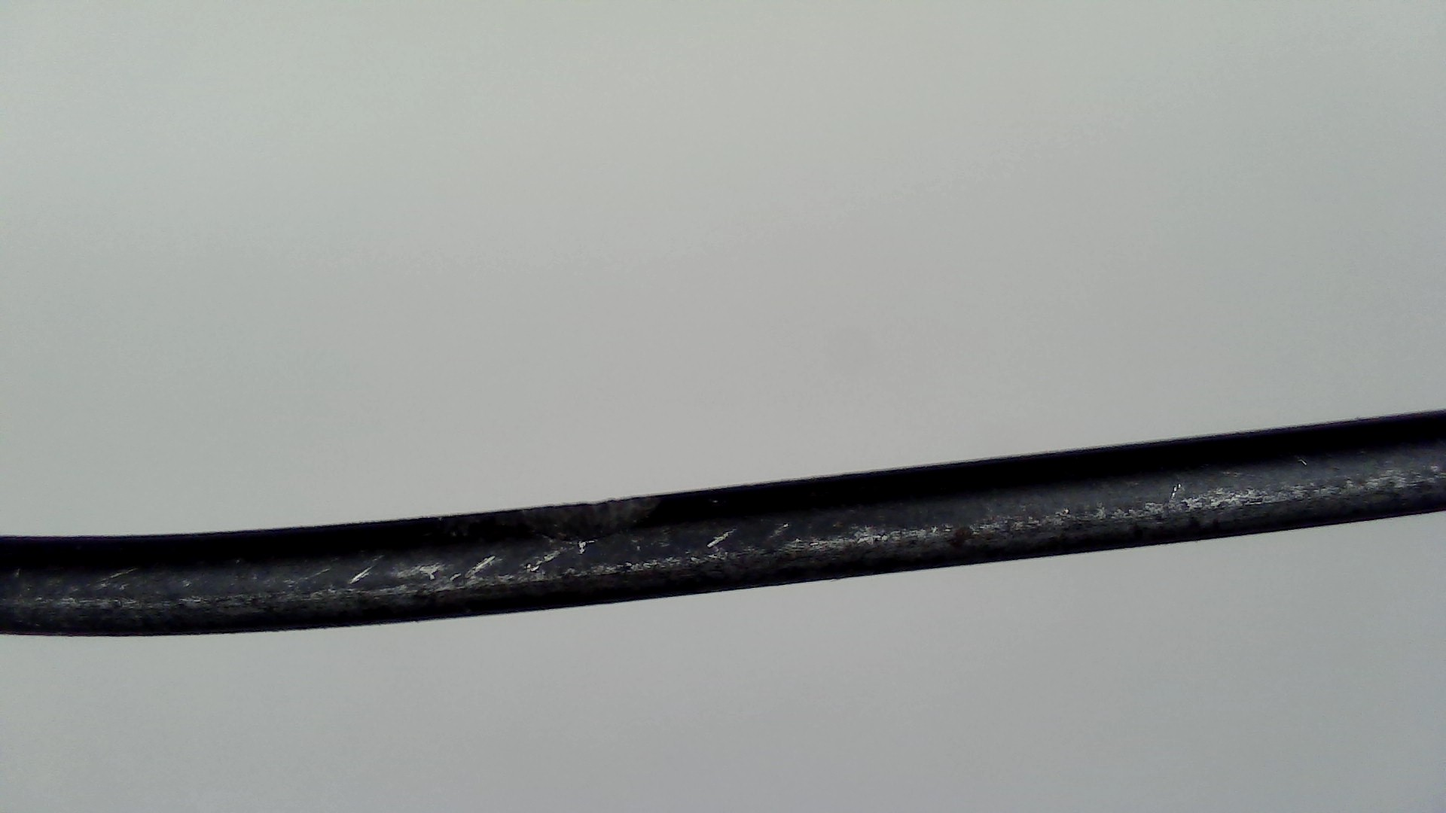defect: (313, 492, 909, 585)
